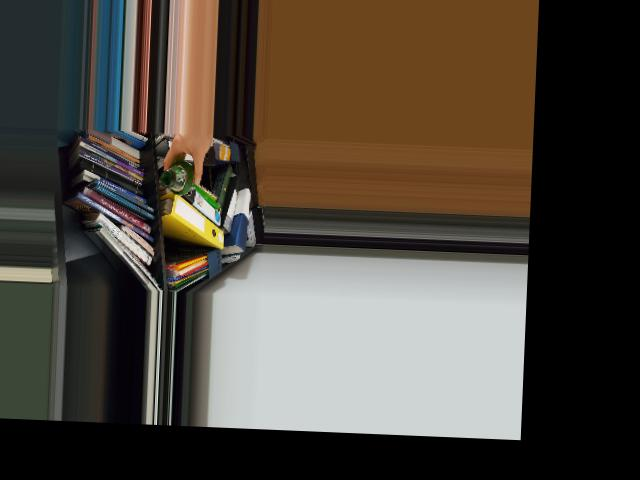beer: (161, 160, 198, 195)
